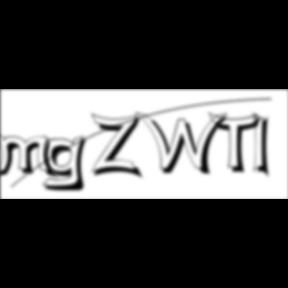I: (253, 110, 277, 182)
T: (209, 112, 267, 176)
W: (135, 110, 233, 178)
Z: (92, 112, 146, 181)
g: (42, 134, 94, 194)
m: (0, 132, 60, 181)
